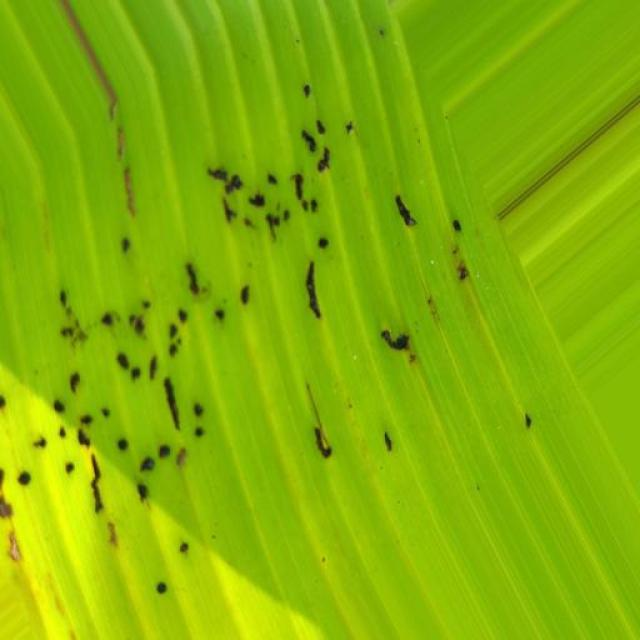Black_rot: (3, 80, 640, 600)
